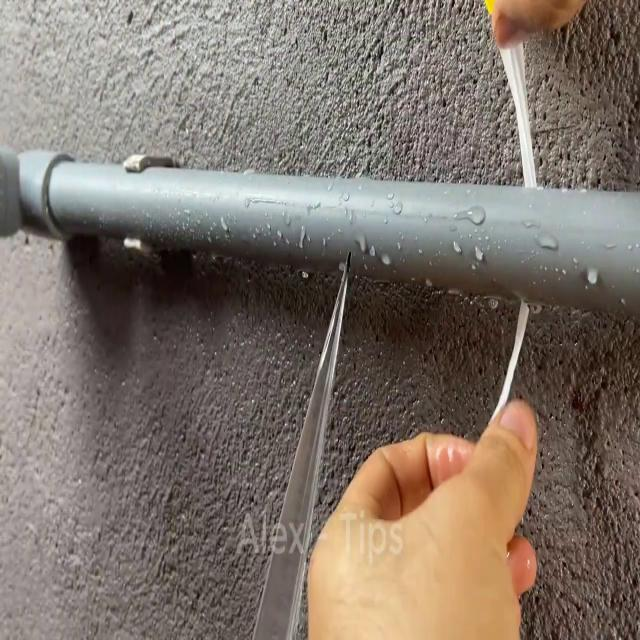leak: (251, 261, 349, 640)
